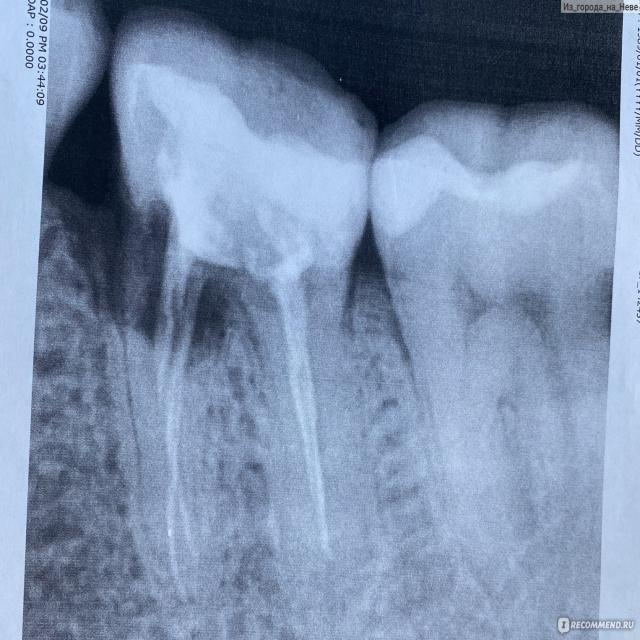Caries: (106, 12, 378, 601)
